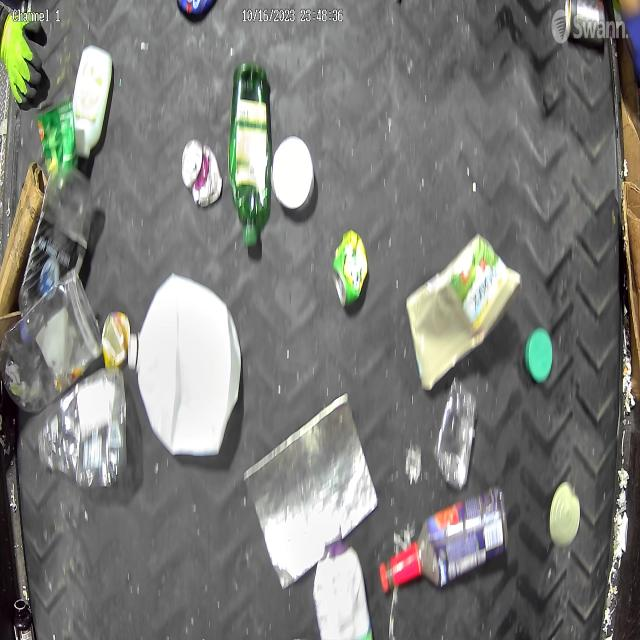can: (36, 94, 80, 166), (333, 228, 370, 312), (183, 142, 223, 209), (103, 310, 133, 371), (565, 0, 605, 45)
milk_jug: (135, 276, 243, 457)
plastic_bottle: (19, 162, 94, 314), (35, 371, 128, 487)
